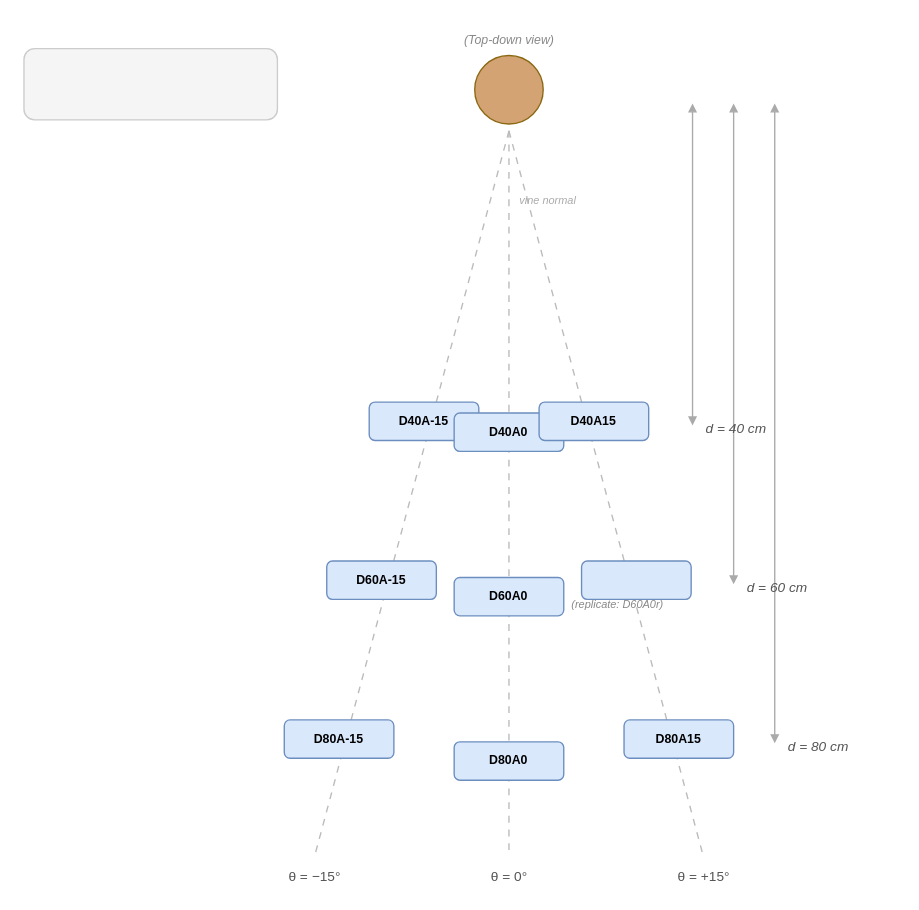
Some shapes in this 919 by 910 pixel diagram are drawn without their labels. The shapes that lost their labels are listed below. From the top down, each one's box as (x1, y1, x2, y2) in pixels, then its label:
(23, 47, 277, 120): d : sensor-to-vine distance θ : lateral approach angle relative to vine normal
(473, 54, 543, 124): Vine Trunk
(580, 560, 691, 599): D60A15
